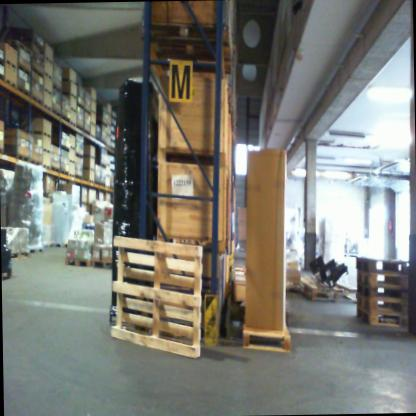pallet: (105, 229, 204, 360), (354, 252, 413, 277), (355, 278, 409, 303), (299, 272, 339, 304), (355, 306, 410, 328), (355, 294, 409, 316), (354, 268, 408, 287), (61, 256, 90, 268), (6, 153, 31, 165), (89, 259, 113, 271), (6, 249, 29, 261), (26, 244, 43, 256), (2, 77, 17, 90), (27, 130, 51, 138), (2, 58, 17, 69), (40, 239, 56, 249), (29, 94, 42, 105), (1, 267, 12, 280), (28, 157, 42, 167), (17, 86, 31, 96), (60, 92, 77, 99), (55, 144, 69, 152), (41, 103, 52, 113), (41, 163, 51, 172), (49, 164, 59, 173), (42, 71, 53, 79), (43, 56, 54, 64), (41, 146, 51, 154), (74, 124, 84, 132), (59, 169, 69, 176), (82, 154, 95, 159), (68, 143, 76, 151), (62, 116, 71, 123), (51, 111, 61, 117), (82, 167, 94, 172), (76, 102, 84, 109), (84, 179, 94, 184), (83, 108, 90, 115), (43, 89, 51, 95), (68, 120, 76, 126), (82, 129, 90, 135), (74, 174, 83, 179), (69, 106, 76, 112), (100, 140, 107, 146), (74, 153, 83, 157), (68, 172, 75, 177), (68, 159, 75, 164), (94, 137, 101, 142), (89, 133, 95, 138), (90, 121, 96, 126), (100, 163, 106, 168), (105, 162, 110, 167), (90, 110, 96, 114), (90, 98, 96, 102), (105, 173, 110, 177), (94, 182, 100, 185), (99, 183, 105, 186), (105, 184, 109, 188)
